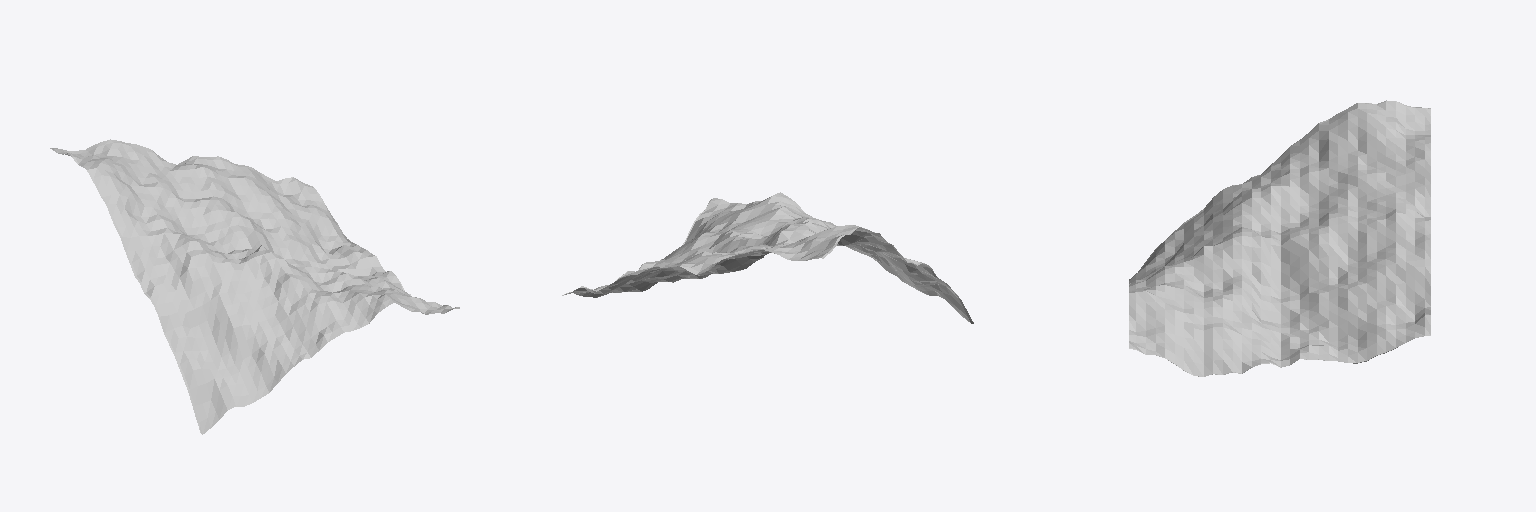
Rendered from heightmap.044.obj.
The picture shows the model from 3 angles: view 1: azimuth 30°, elevation 25°; view 2: azimuth 150°, elevation 25°; view 3: azimuth 270°, elevation 25°; orthographic projection.
Parts seen in each view (by area): view 1: heightmap.044_Plane.044; view 2: heightmap.044_Plane.044; view 3: heightmap.044_Plane.044.
Boxes of the visible parts, box(x1,y1,x2,y2) form: heightmap.044_Plane.044: box(50, 139, 459, 434); heightmap.044_Plane.044: box(562, 192, 973, 323); heightmap.044_Plane.044: box(1129, 100, 1430, 376).
Size of the model in its own units: 32 by 21.61 by 32.